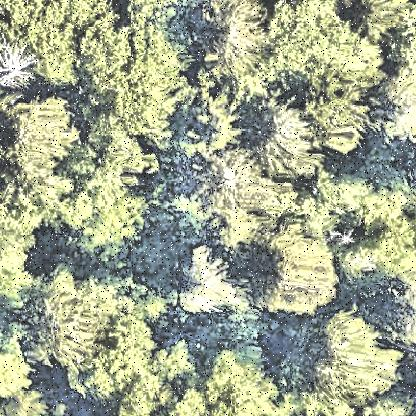tree-top: (76, 21, 198, 145), (77, 14, 189, 142), (267, 5, 387, 97), (326, 179, 416, 282), (310, 316, 404, 404), (24, 271, 108, 367), (258, 227, 346, 317), (14, 1, 98, 85), (68, 176, 147, 255), (3, 99, 78, 180), (249, 99, 321, 183), (79, 312, 151, 391), (196, 352, 279, 416), (177, 239, 235, 317), (302, 89, 373, 151), (207, 7, 267, 75), (1, 171, 76, 224), (198, 155, 264, 211), (184, 90, 240, 152), (376, 71, 416, 144), (1, 211, 41, 281), (354, 1, 405, 38), (1, 341, 31, 401), (1, 38, 35, 88), (7, 386, 51, 416)
